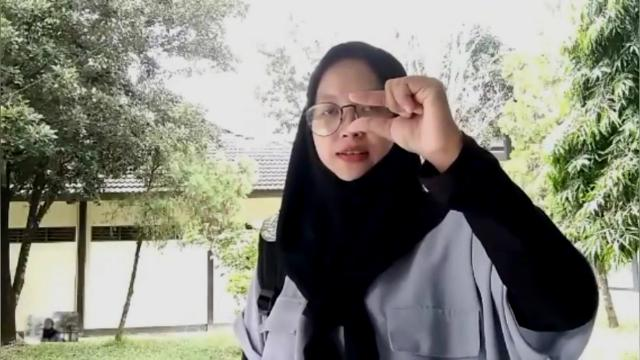G: (344, 74, 458, 158)
